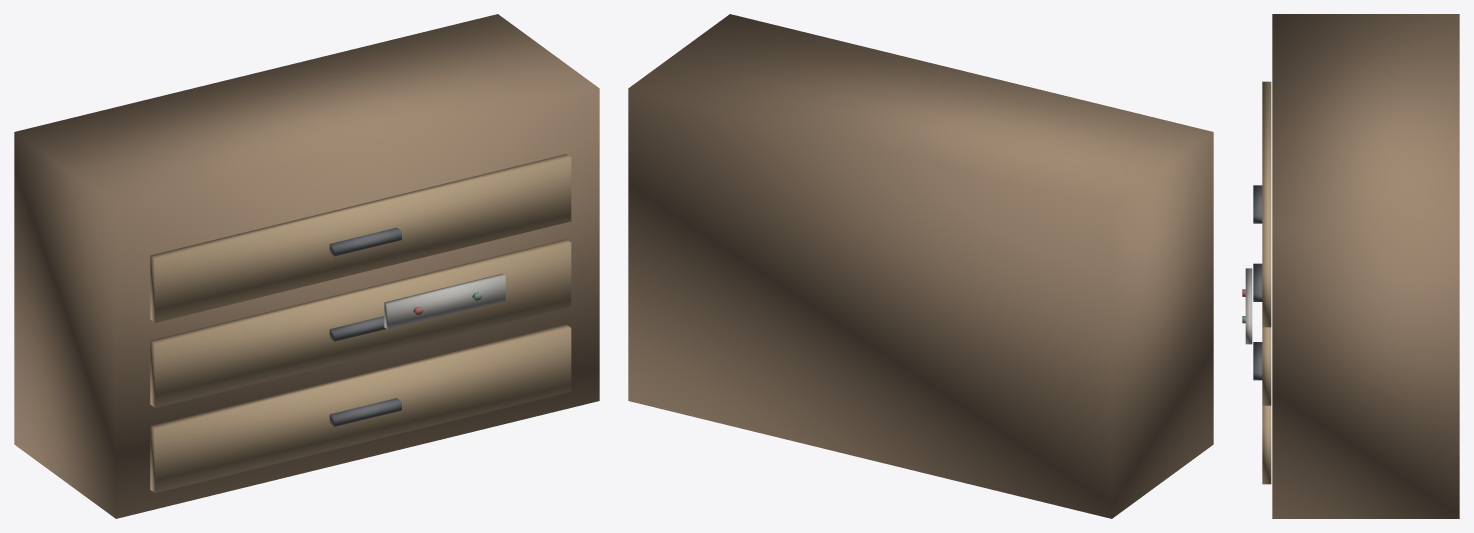
The model's file is dresser__wide.glb.
3 renders of one model, left to right at view 1: azimuth 30°, elevation 25°; view 2: azimuth 150°, elevation 25°; view 3: azimuth 270°, elevation 25°, orthographic. The views are drawn at different scales.
Visible parts, largest first — view 1: world; view 2: world; view 3: world.
Part boxes in pixels (x1,y1,x2,y2): world: (14,14,599,518); world: (628,14,1213,518); world: (1242,14,1459,518).
Size of the model in its own units: 1.43 by 0.88 by 0.6035.
